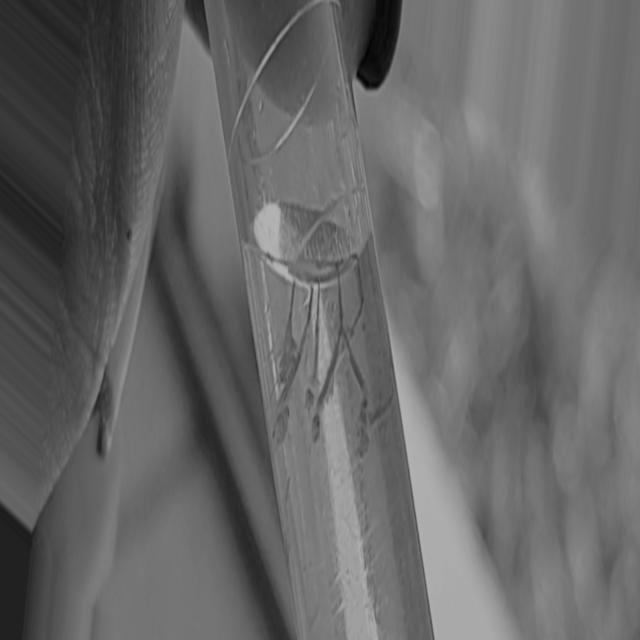larvas: (276, 288, 318, 416), (356, 375, 396, 459), (303, 287, 329, 415), (343, 327, 374, 427), (277, 290, 300, 381), (328, 282, 352, 369), (346, 262, 372, 341), (310, 373, 334, 442), (274, 403, 290, 441)
